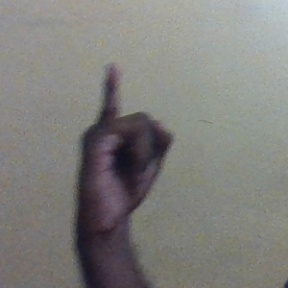I: (71, 61, 177, 226)
